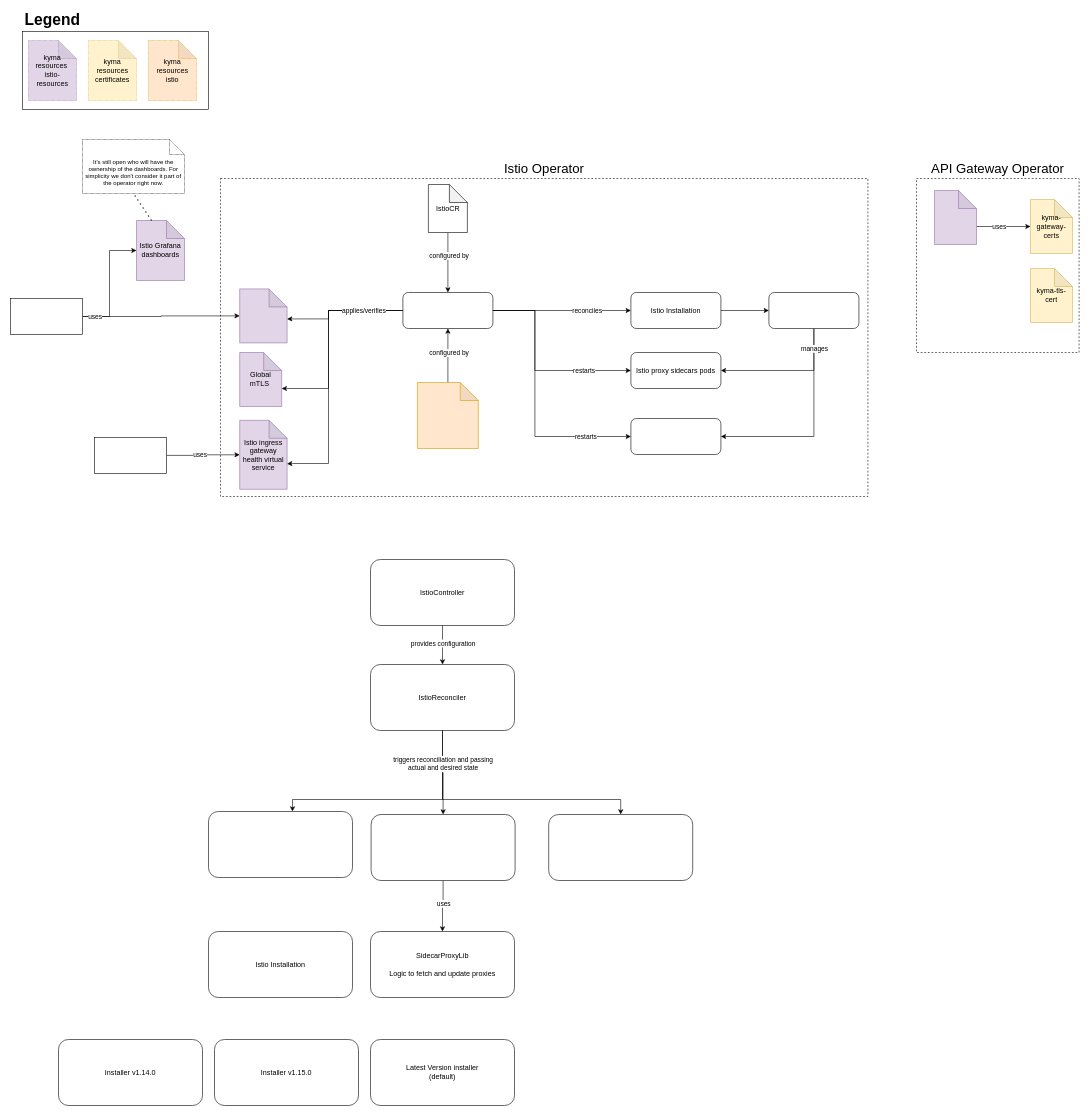
Image size: 1090x1116. Some labels were removed from this diagram. Each missing label, with the centre of its shape:
"customer/external monitoring" belongs at point 130,455.
"Istio Controller" belongs at point 447,310.
"Istio ingress gateway" belongs at point 675,436.
"Istio service monitor" belongs at point 263,315.
"istiod" belongs at point 813,310.
"IstioIngressGatewayReconciler" belongs at point 620,847.
"IstioInstallationReconciler" belongs at point 280,844.
"Kyma Gateway" belongs at point 955,217.
"Kyma Istio-operator defaults" belongs at point 447,415.
"Monitoring" belongs at point 46,316.
"ProxySidecarReconciler" belongs at point 442,847.
